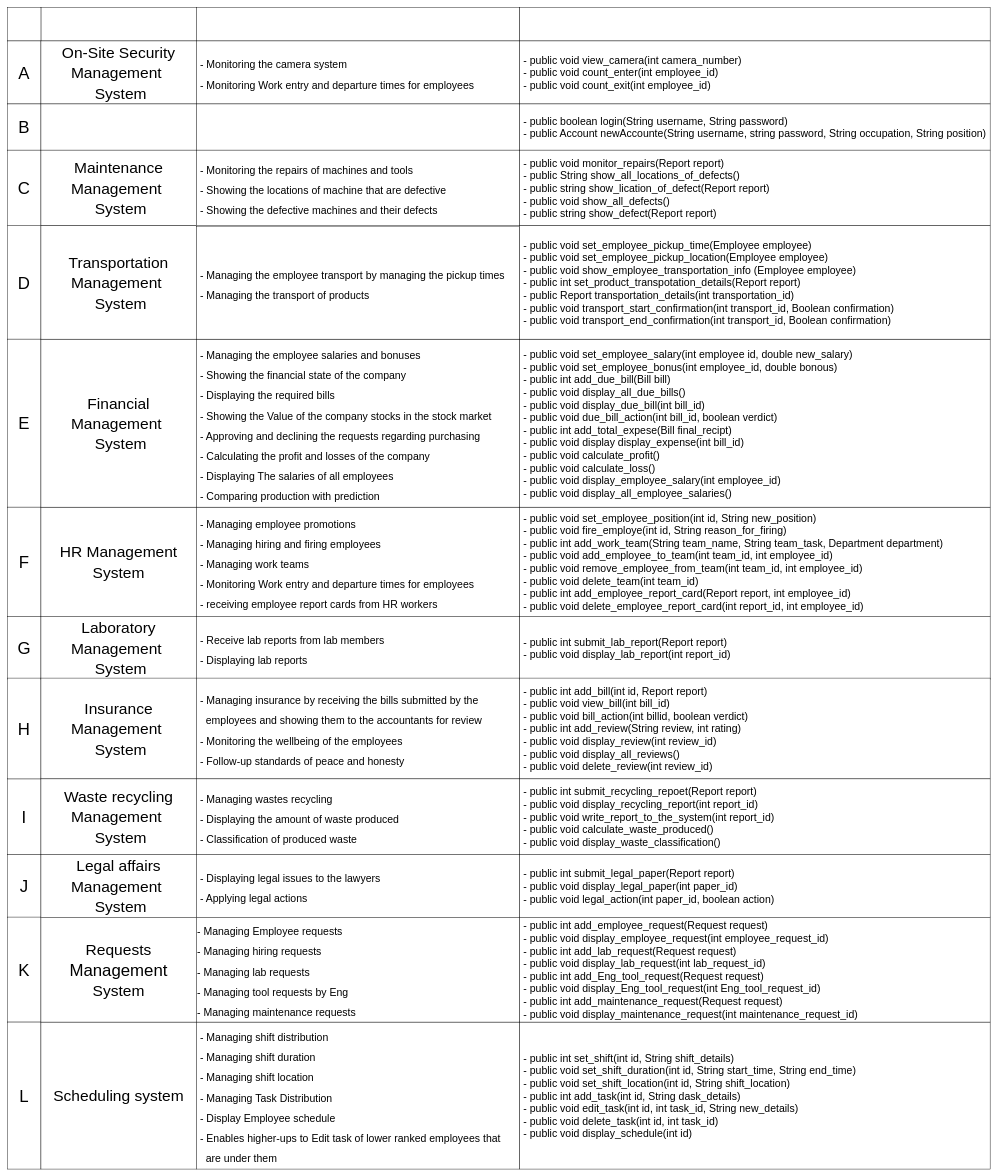
Some shapes in this 997 by 1176 pixel diagram are drawn without their labels. The centre of each missing label's shape, as x and y in pixels:
"- Shows the user the correct interface based on his profession and position" goes at pixel 358 127.
"Login System" goes at pixel 118 127.
"Subsystem Function" goes at pixel 358 24.
"Subsystem Interface" goes at pixel 754 24.
"Subsystem Name" goes at pixel 118 24.
